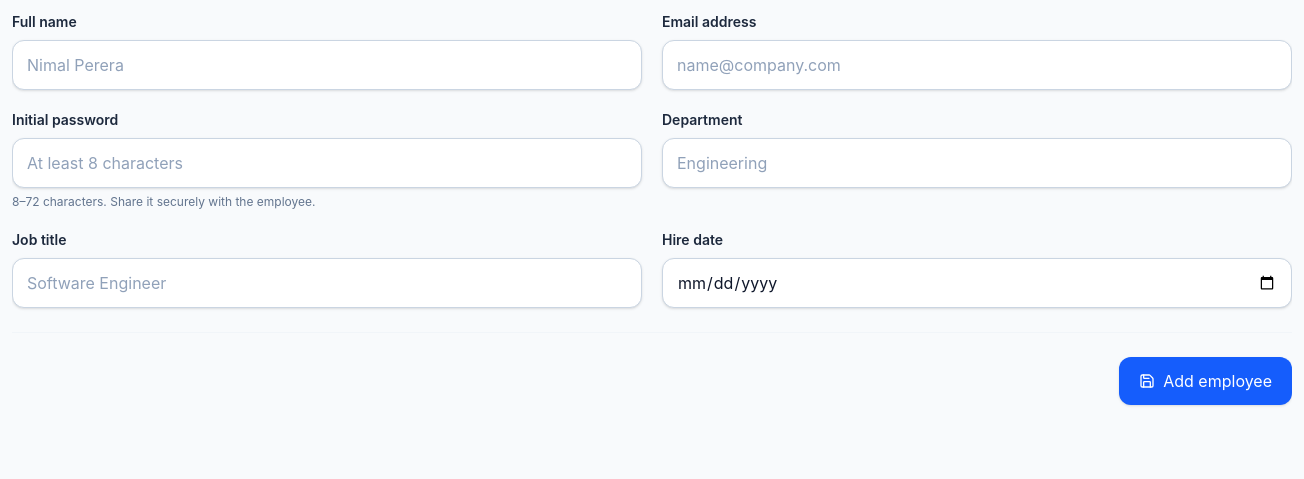
Scenario: EmployeeForm › validates required create fields before submission
This screenshot has width=1304, height=479.
Step 1. Click the button "Add employee" → (1206, 381), box [1119,357,1292,405]
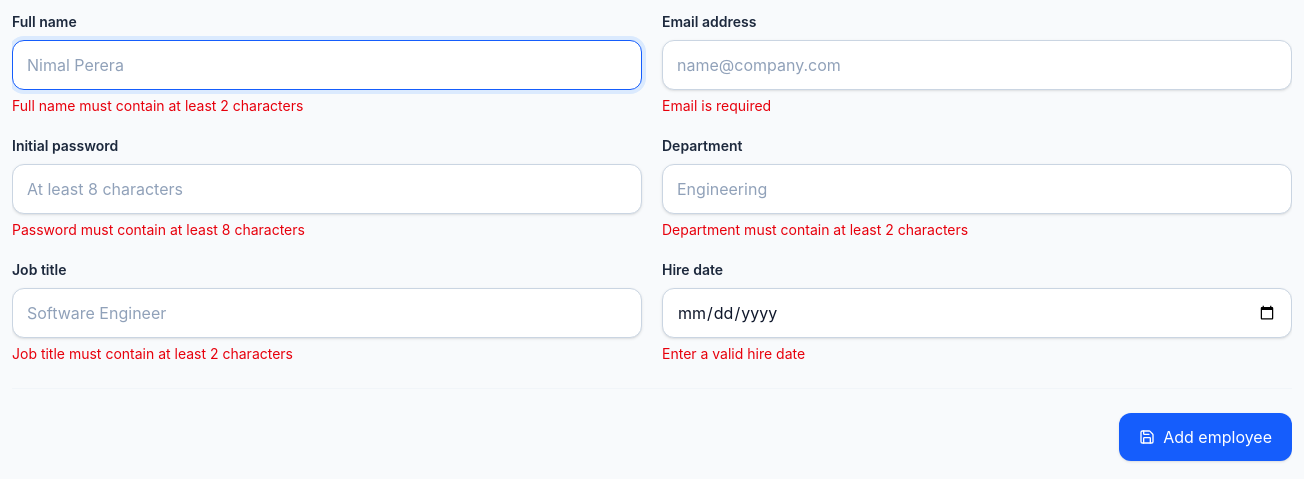
Expected: the text "Full name must contain at least 2 characters" is shown, [12,97,303,114]
Expected: the text "Password must contain at least 8 characters" is shown, [12,221,305,238]
